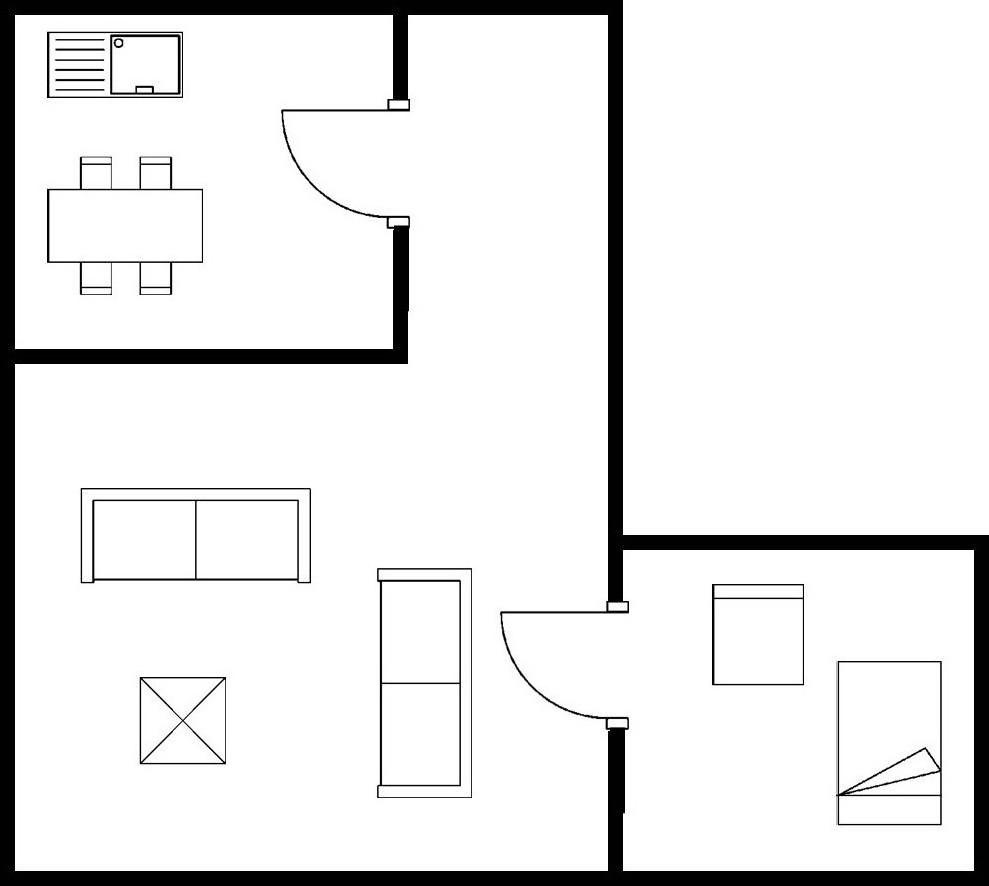bed: (832, 656, 945, 832)
dining_table: (40, 150, 207, 297)
sink: (41, 25, 188, 104)
sofa: (75, 482, 316, 591), (371, 563, 475, 803)
